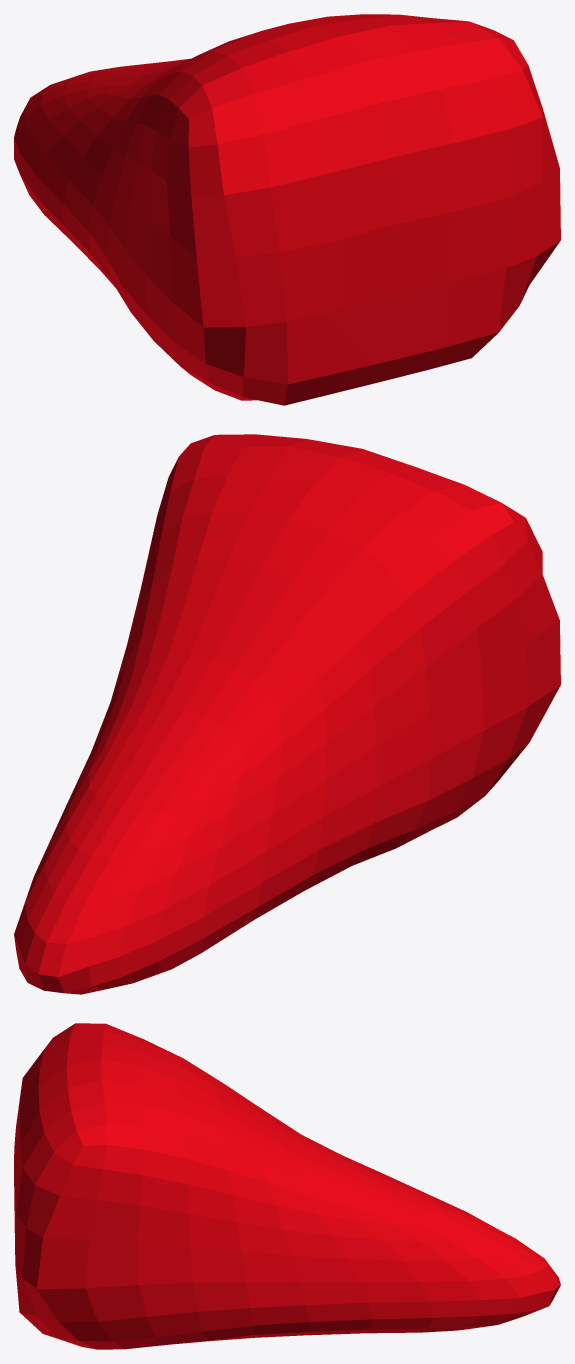
The model's file is tail.fbx.
The picture shows the model from 3 angles, top to bottom: view 1: azimuth 30°, elevation 25°; view 2: azimuth 150°, elevation 25°; view 3: azimuth 270°, elevation 25°; orthographic projection. The views are drawn at different scales.
Parts seen in each view (by area): view 1: Cube.001; view 2: Cube.001; view 3: Cube.001.
Boxes of the visible parts, x1,y1,x2,y2 form: Cube.001: [14, 14, 560, 405]; Cube.001: [14, 434, 560, 994]; Cube.001: [14, 1023, 560, 1349].
Size of the model in its own units: 135 by 122 by 232.
